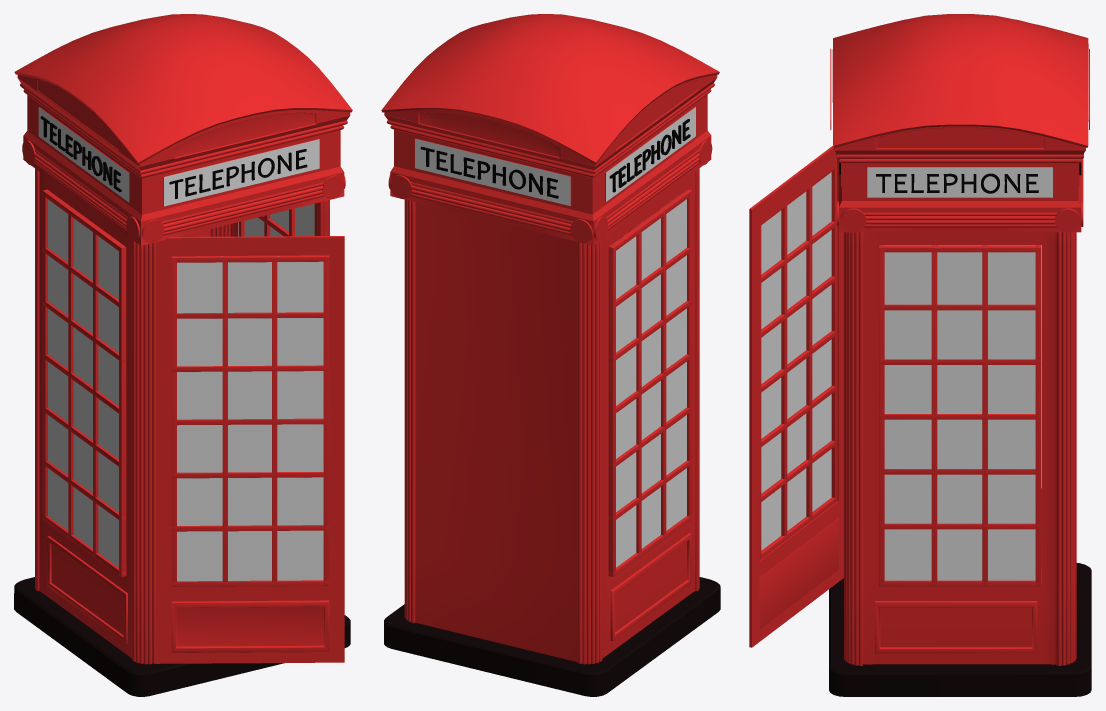
File: photobooth.fbx_Scene_Scene_Collection.fbx
3 renders of one model, left to right at view 1: azimuth 30°, elevation 25°; view 2: azimuth 150°, elevation 25°; view 3: azimuth 270°, elevation 25°, orthographic. The views are drawn at different scales.
Parts seen in each view (by area): view 1: Plane.002, Plane, Cube, Cube.009, Cube.007, Plane.004, Cube.005, Cube.004, Cube.006, Cube.002, Cube.014, Cube.001 (+8 smaller); view 2: Cube, Plane, Cube.009, Plane.004, Cube.002, Cube.004, Cube.014, Cube.010, Cube.012, Cube.013, Text.002, Text.003 (+2 smaller); view 3: Cube, Plane.003, Plane, Cube.009, Plane.002, Cube.003, Cube.002, Cube.005, Cube.007, Cube.006, Cube.008, Cube.011 (+3 smaller).
Boxes of the visible parts, x1,y1,x2,y2 form: Plane.002: (177,256,323,581); Plane: (14,14,352,164); Cube: (35,168,329,664); Cube.009: (17,75,350,245); Cube.007: (156,236,344,663); Plane.004: (48,199,118,567); Cube.005: (171,255,329,586); Cube.004: (42,189,125,577); Cube.006: (171,600,329,652); Cube.002: (14,577,350,696); Cube.014: (174,112,316,158); Cube.001: (161,182,323,235); Cube: (404,168,699,664); Plane: (381,14,719,164); Cube.009: (384,75,717,245); Plane.004: (616,199,686,567); Cube.002: (384,577,720,696); Cube.004: (608,189,691,576); Cube.014: (418,111,560,158); Cube.010: (410,182,572,235); Cube.012: (610,533,691,641); Cube.013: (606,149,699,230); Text.002: (420,146,558,198); Text.003: (609,119,690,192); Cube: (844,232,1076,665); Plane.003: (884,252,1035,580); Plane: (832,14,1088,147); Cube.009: (834,111,1085,232); Plane.002: (761,172,831,550); Cube.003: (879,245,1041,586); Cube.002: (829,563,1091,696); Cube.005: (759,164,837,559); Cube.007: (749,145,843,647); Cube.006: (759,518,838,628); Cube.008: (864,212,1057,227); Cube.011: (875,601,1037,653).
Bounding box in the file's own units: 200 × 514 × 261.
